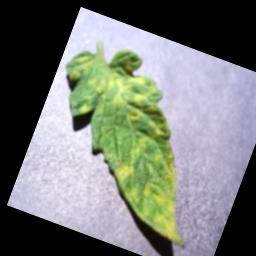Leaf_Mold: (19, 30, 240, 247)
